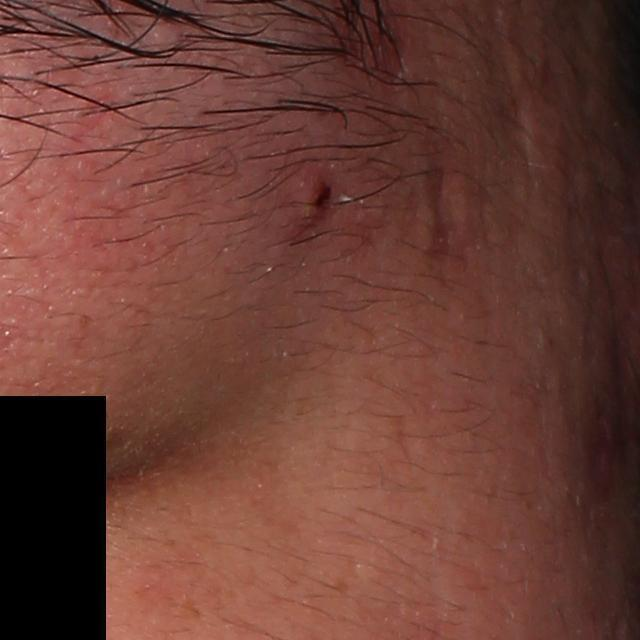atrophic_scar: (487, 1, 535, 183), (565, 130, 589, 321), (425, 155, 469, 257)
